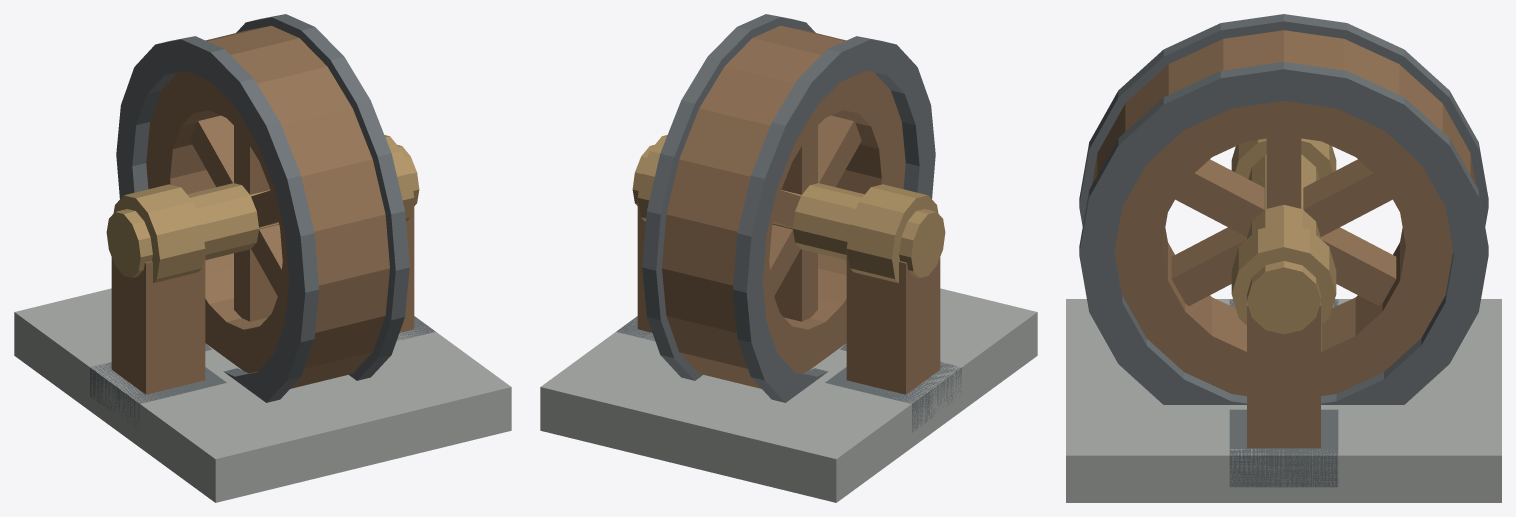
The model's file is vf_flywheel.glb.
3 renders of one model, left to right at view 1: azimuth 30°, elevation 25°; view 2: azimuth 150°, elevation 25°; view 3: azimuth 270°, elevation 25°, orthographic. The views are drawn at different scales.
Parts seen in each view (by area): view 1: Rotor_Oak, Static_Stone, Rotor_Iron, Static_Oak, Rotor_Bronze, Static_Bronze, Static_Iron; view 2: Rotor_Oak, Static_Stone, Rotor_Iron, Static_Oak, Rotor_Bronze, Static_Bronze, Static_Iron; view 3: Rotor_Oak, Static_Stone, Rotor_Iron, Static_Oak, Static_Bronze, Rotor_Bronze, Static_Iron.
Part boxes in pixels (x1,y1,x2,y2): Rotor_Oak: [146, 25, 389, 388]; Static_Stone: [14, 288, 511, 502]; Rotor_Iron: [116, 14, 409, 402]; Static_Oak: [111, 198, 414, 394]; Rotor_Bronze: [106, 145, 419, 277]; Static_Bronze: [113, 135, 414, 283]; Static_Iron: [90, 316, 435, 428]; Rotor_Oak: [662, 25, 905, 388]; Static_Stone: [540, 288, 1037, 502]; Rotor_Iron: [642, 14, 935, 402]; Static_Oak: [637, 198, 940, 394]; Rotor_Bronze: [632, 145, 945, 277]; Static_Bronze: [637, 135, 938, 283]; Static_Iron: [616, 316, 961, 432]; Rotor_Oak: [1092, 30, 1475, 395]; Static_Stone: [1066, 299, 1501, 502]; Rotor_Iron: [1079, 14, 1488, 404]; Static_Oak: [1247, 302, 1320, 448]; Static_Bronze: [1231, 138, 1336, 325]; Rotor_Bronze: [1247, 154, 1320, 334]; Static_Iron: [1229, 299, 1338, 487].
Bounding box in the file's own units: 0.85 × 0.97 × 1.
